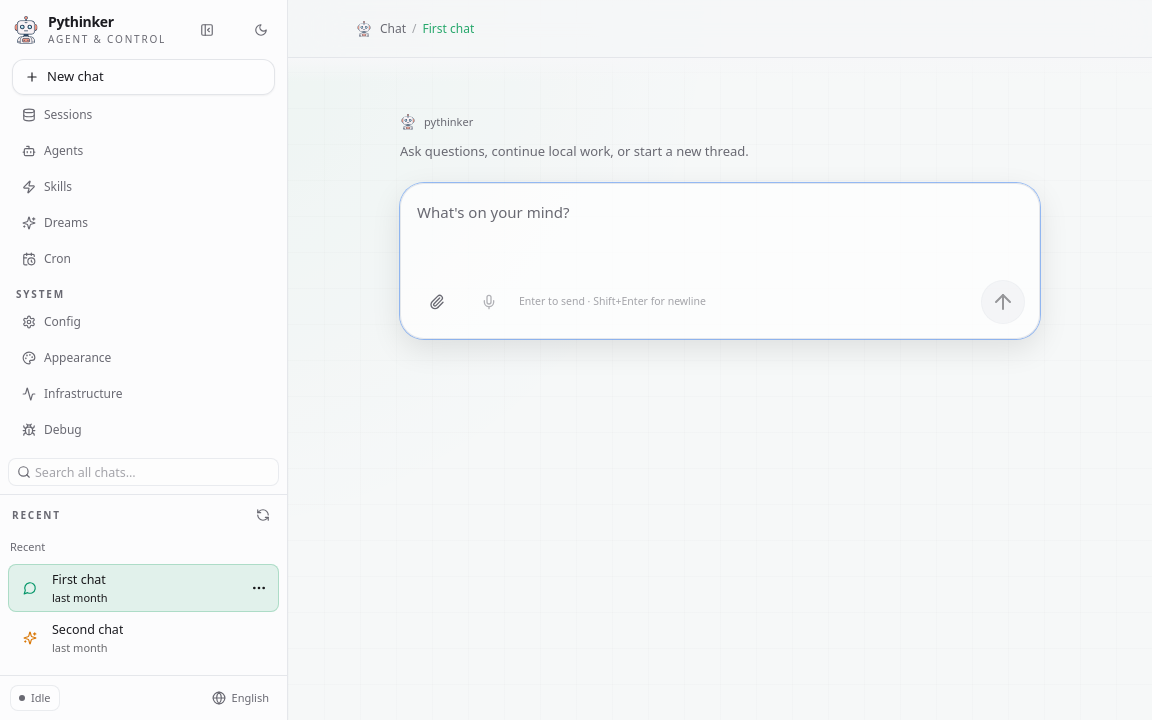
Test: App layout › switches to the next session when deleting the active chat
(page scrolled)
Check: the button "Chat/First chat" is shown, box [348, 16, 482, 42]
Press the mouse on the button named "Chat actions for First chat" at (259, 588), box [247, 576, 271, 600]
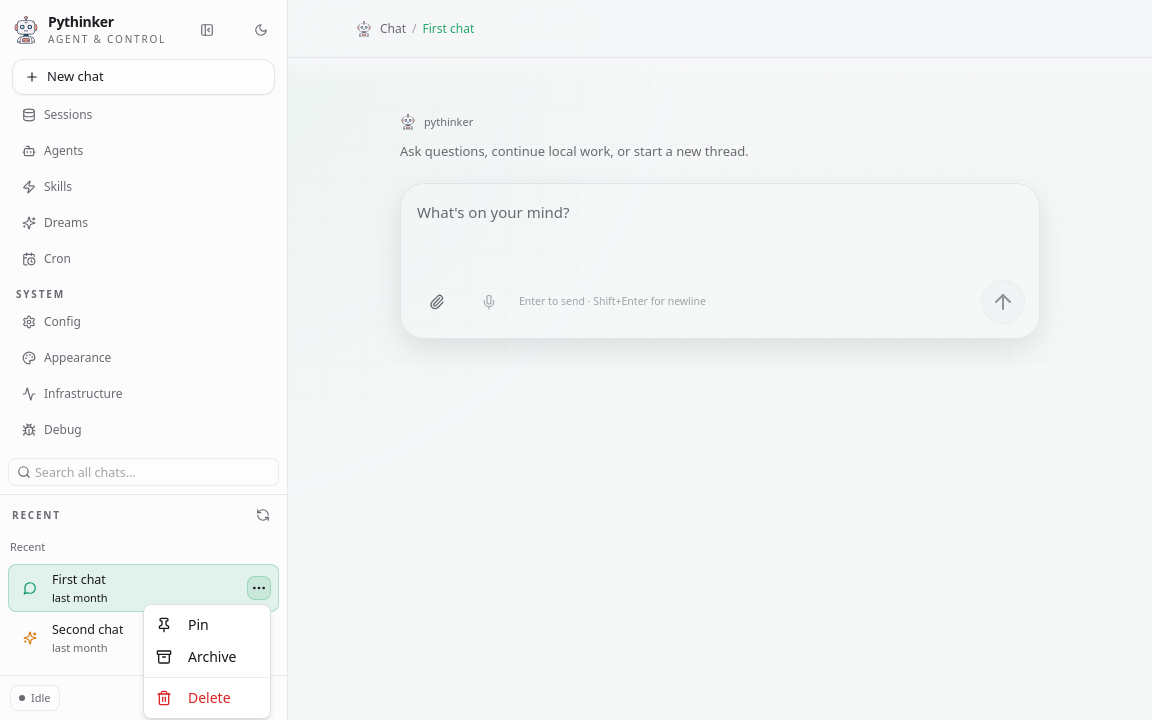
Click the menu item "Delete".
click(193, 698)  # box [156, 688, 231, 707]
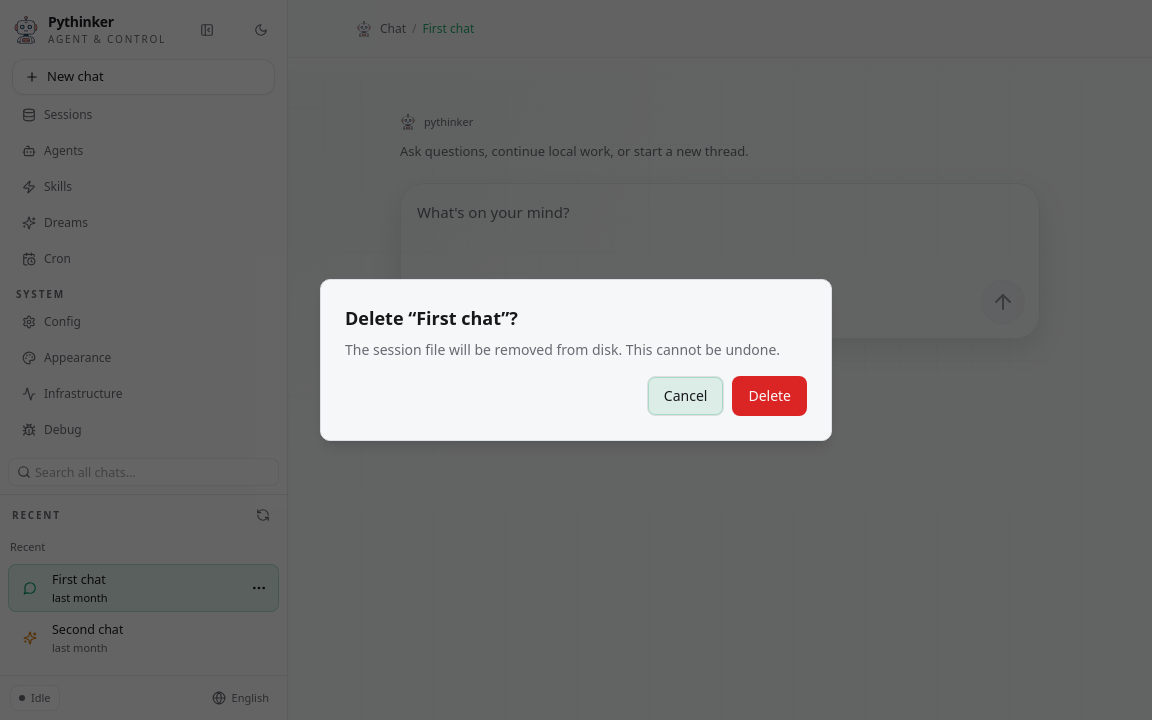
Check: the heading "Delete “First chat”?" is shown, box [345, 306, 518, 330]
Click the button "Delete".
click(770, 396)  # box [732, 376, 807, 416]
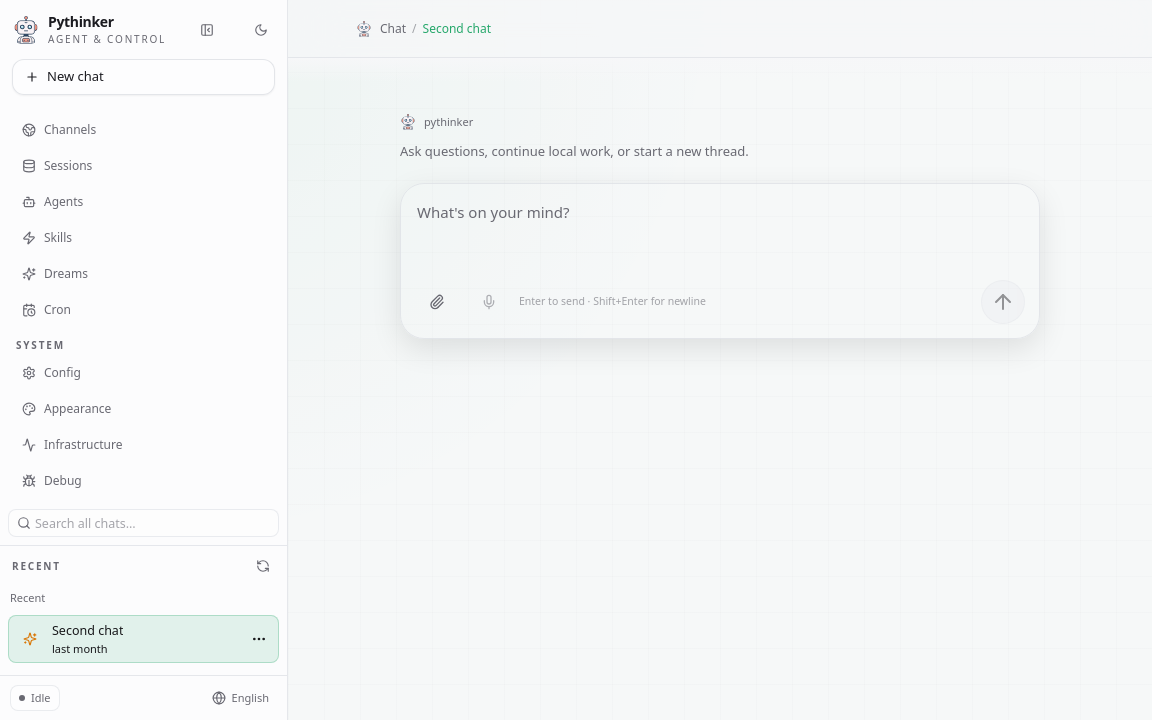
Check: the button "Chat/Second chat" is shown, box [348, 16, 499, 42]
Check: the heading "Delete “First chat”?" is gone
